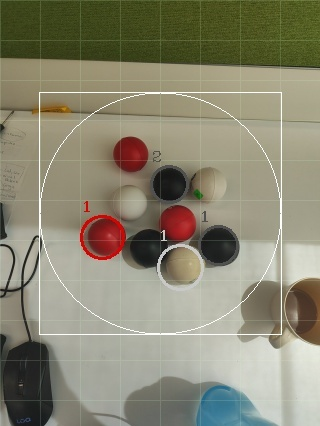Pelota blanca: (121, 374, 203, 425), (284, 276, 320, 347), (156, 244, 203, 291), (108, 182, 147, 222), (188, 164, 227, 203), (0, 241, 17, 299), (79, 411, 130, 425)
Pelota negra: (193, 385, 278, 425), (199, 222, 241, 267), (121, 228, 163, 270), (148, 164, 190, 200)
Pelota roja: (79, 212, 126, 262), (111, 134, 150, 174), (156, 204, 195, 243)
